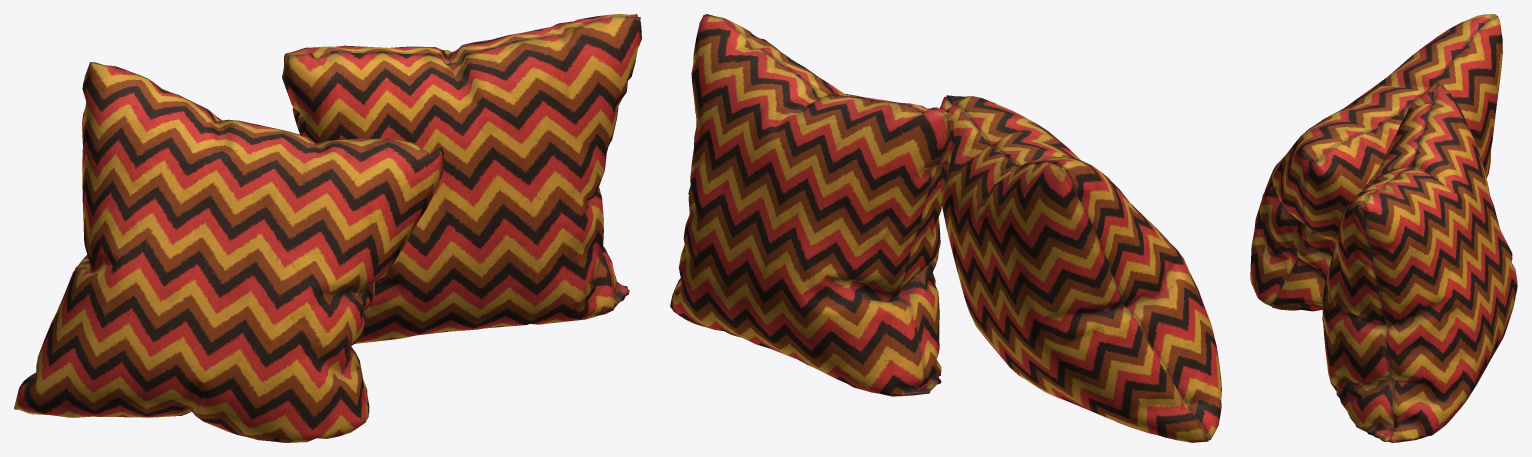
File: ph_throw_pillows_01.glb
3 renders of one model, left to right at view 1: azimuth 30°, elevation 25°; view 2: azimuth 150°, elevation 25°; view 3: azimuth 270°, elevation 25°, orthographic. The views are drawn at different scales.
Visible parts, largest first — view 1: throw_pillows_01_pillow01, throw_pillows_01_pillow02; view 2: throw_pillows_01_pillow02, throw_pillows_01_pillow01; view 3: throw_pillows_01_pillow02, throw_pillows_01_pillow01.
Boxes of the visible parts, x1,y1,x2,y2 form: throw_pillows_01_pillow01: (14, 62, 443, 442); throw_pillows_01_pillow02: (282, 14, 641, 343); throw_pillows_01_pillow02: (670, 14, 953, 396); throw_pillows_01_pillow01: (939, 95, 1221, 442); throw_pillows_01_pillow02: (1322, 84, 1517, 442); throw_pillows_01_pillow01: (1250, 14, 1502, 311).
Bounding box in the file's own units: 0.9401 × 0.4502 × 0.4519.
1 material, 1 textured.
